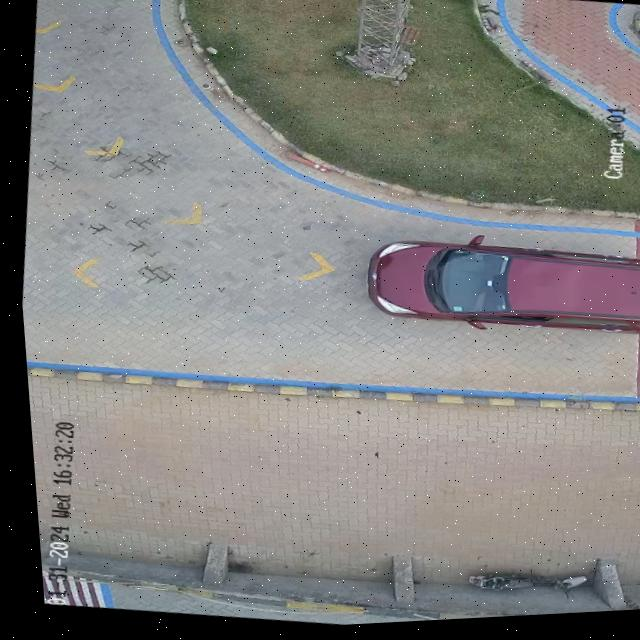car: (364, 244, 640, 338)
